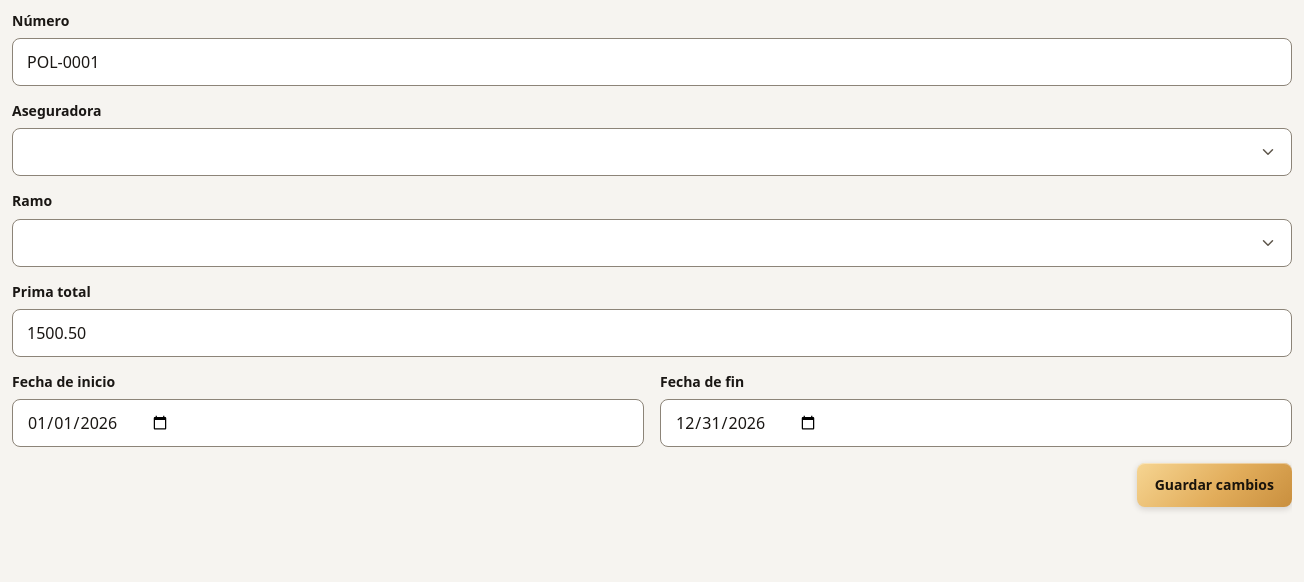
it: FormularioPoliza › al cambiar la prima con un plan de 3 cuotas avisa que se recalculará (D13)
Check: the text "se recalcularán" is not shown
Replace the text in the field labelled "Prima total" with "1600.00" at (652, 333), box [12,309,1292,357]
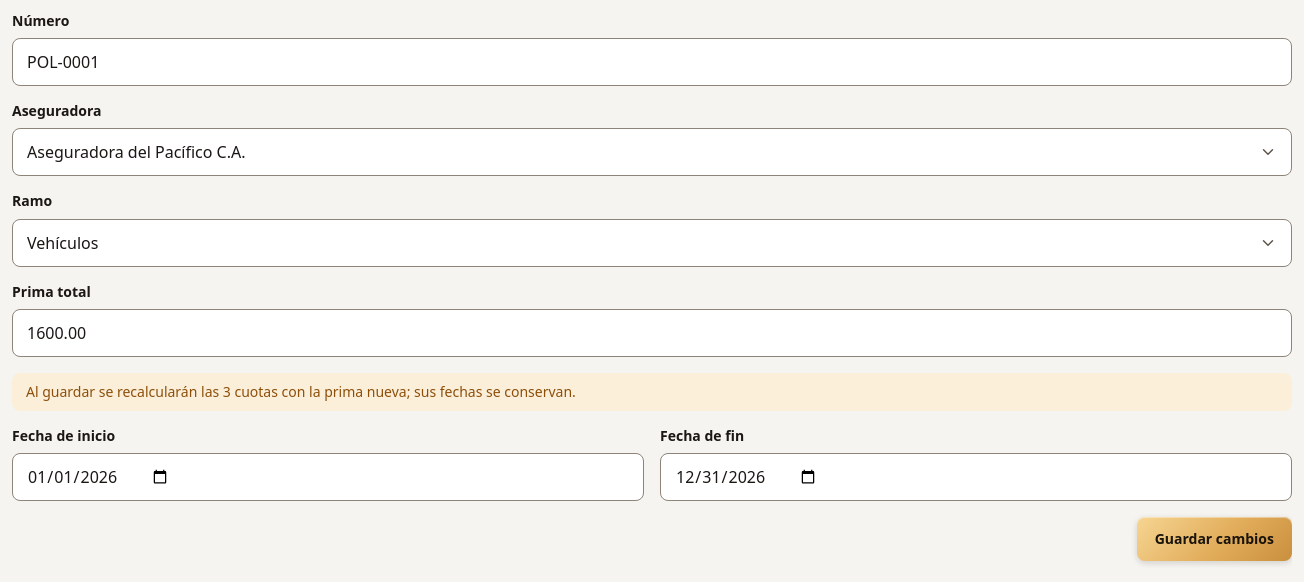
Check: the text "se recalcularán las 3 cuotas" is shown, box [26,382,576,401]
